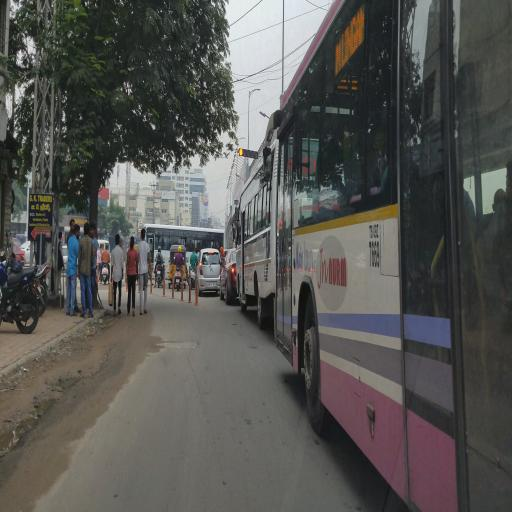street_light_0: (248, 81, 262, 103), (257, 105, 275, 120)
